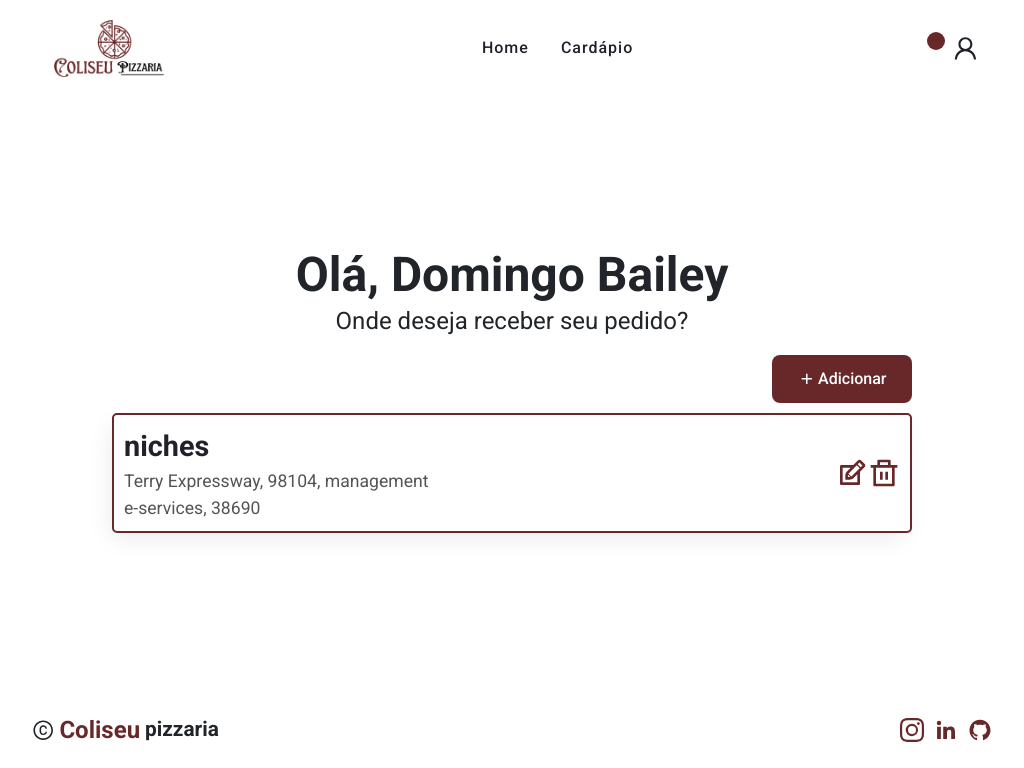
Profile › edit › should open edit address modal when edit button is clicked
Expected: the element with test id "address" is shown, [112,413,912,533]
Click the icon with test id "icon-edit": (852, 473) [836,457,868,489]
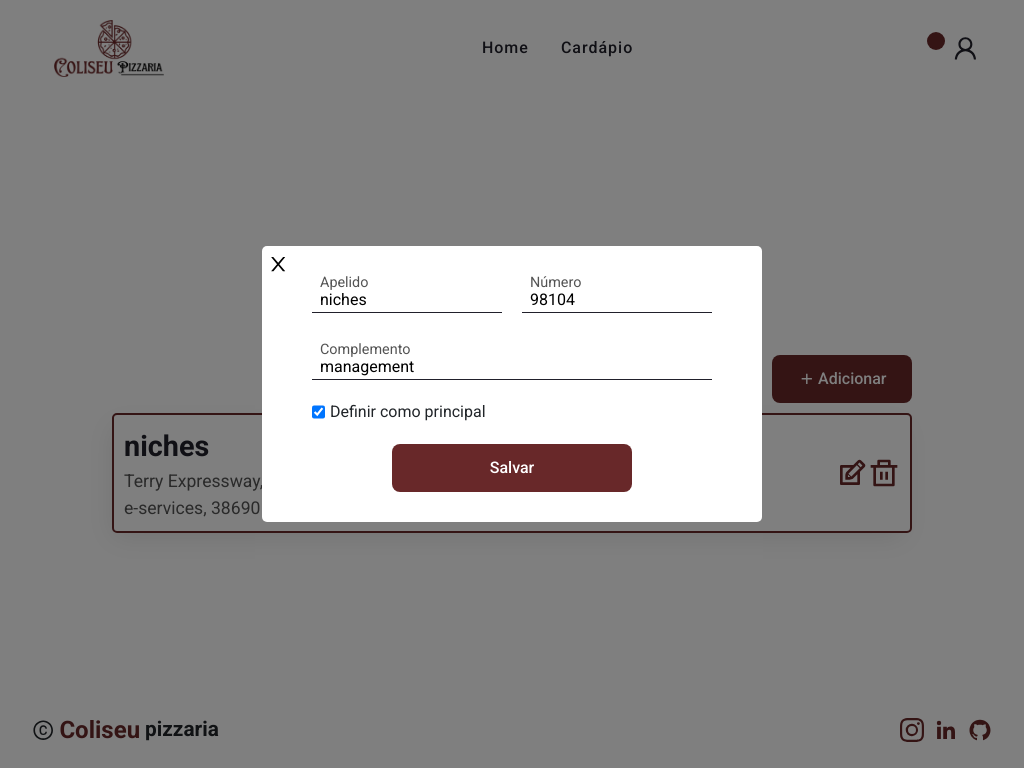
Now the form with test id "edit-form" is shown, box [312,256,712,512]
Now the button "Salvar" is shown, box [392,444,632,492]
